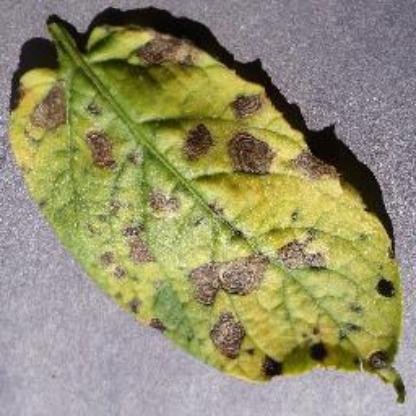Early-Blight: (9, 13, 411, 390)
